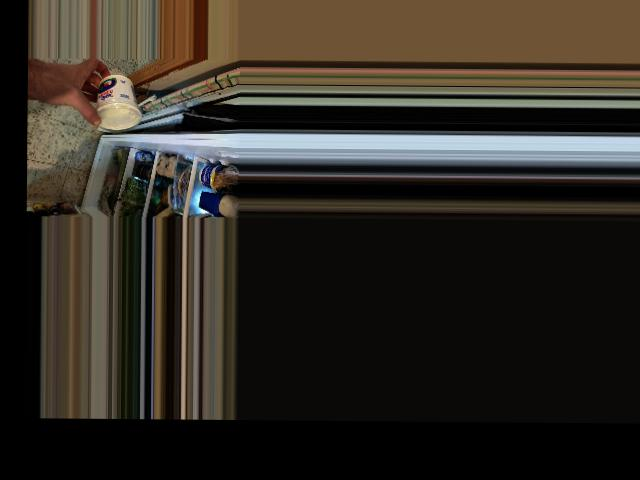cotage: (93, 75, 137, 130)
